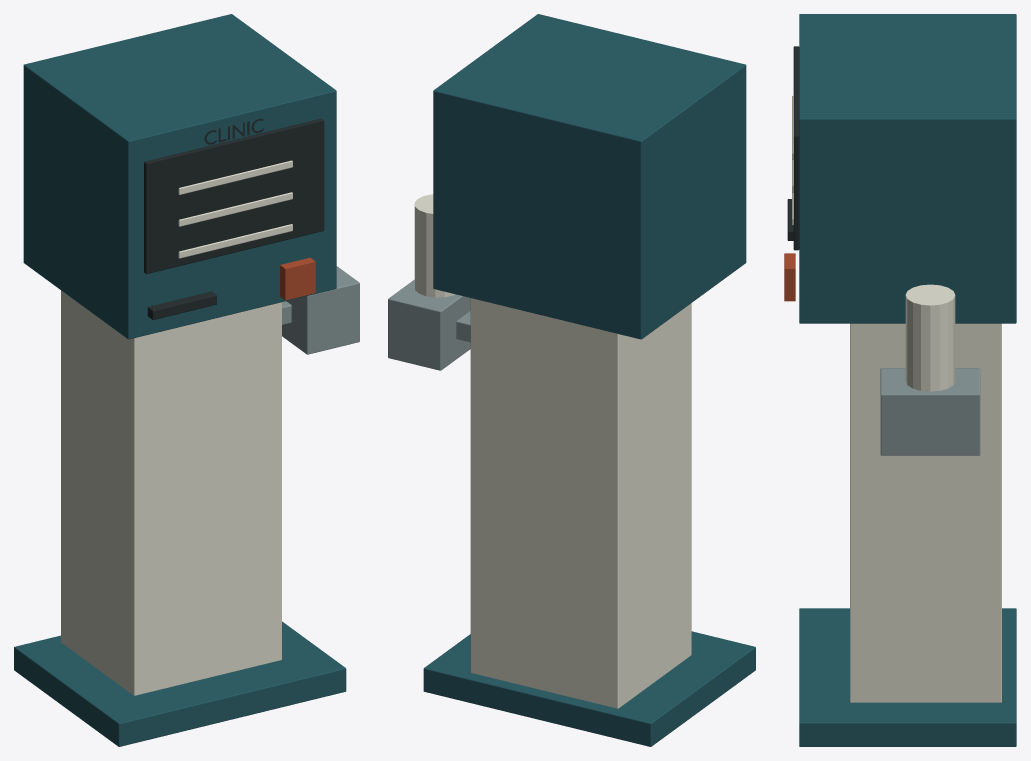
File: clinic-registration-kiosk.glb
3 renders of one model, left to right at view 1: azimuth 30°, elevation 25°; view 2: azimuth 150°, elevation 25°; view 3: azimuth 270°, elevation 25°, orthographic. The views are drawn at different scales.
Visible parts, largest first — view 1: Pedestal, Head, Display, Foot, Sanitizer_Holder, Button, Card_Slot, Interface_Line.001, Interface_Line, Interface_Line.002; view 2: Head, Pedestal, Foot, Sanitizer_Holder, Sanitizer_Bottle; view 3: Head, Pedestal, Foot, Sanitizer_Holder, Sanitizer_Bottle, Display, Button.
Boxes of the visible parts, x1=… form: Pedestal: x1=61, y1=290, x2=281, y2=695; Head: x1=23, y1=14, x2=336, y2=339; Display: x1=144, y1=118, x2=324, y2=274; Foot: x1=14, y1=621, x2=346, y2=746; Sanitizer_Holder: x1=282, y1=266, x2=359, y2=354; Button: x1=280, y1=257, x2=315, y2=300; Card_Slot: x1=147, y1=291, x2=216, y2=319; Interface_Line.001: x1=178, y1=192, x2=292, y2=226; Interface_Line: x1=178, y1=160, x2=292, y2=194; Interface_Line.002: x1=178, y1=224, x2=292, y2=258; Head: x1=433, y1=14, x2=746, y2=339; Pedestal: x1=470, y1=298, x2=691, y2=708; Foot: x1=423, y1=631, x2=755, y2=746; Sanitizer_Holder: x1=388, y1=279, x2=470, y2=370; Sanitizer_Bottle: x1=414, y1=194, x2=454, y2=297; Head: x1=799, y1=14, x2=1016, y2=323; Pedestal: x1=850, y1=323, x2=1001, y2=702; Foot: x1=799, y1=608, x2=1016, y2=746; Sanitizer_Holder: x1=880, y1=368, x2=980, y2=455; Sanitizer_Bottle: x1=905, y1=284, x2=955, y2=391; Display: x1=793, y1=46, x2=799, y2=250; Button: x1=784, y1=253, x2=795, y2=301.
Bounding box in the file's own units: 0.74 × 1.52 × 0.5125.
